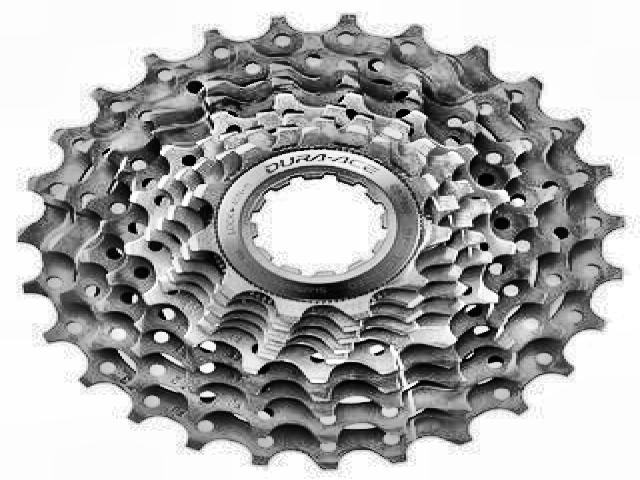cassette: (12, 14, 626, 470)
